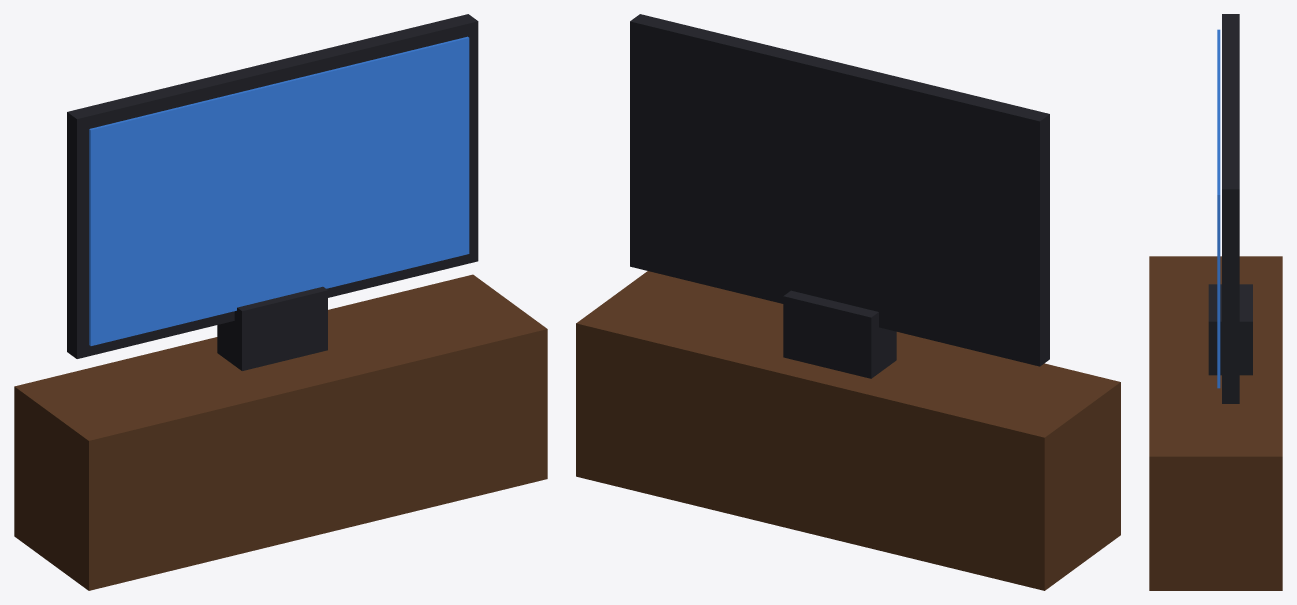
File: tvStand.glb
3 views of the same model, side by side, from view 1: azimuth 30°, elevation 25°; view 2: azimuth 150°, elevation 25°; view 3: azimuth 270°, elevation 25° (orthographic). The views are drawn at different scales.
Parts seen in each view (by area): view 1: tvStand-5e3b22, tvStand-1d3f6e, tvStand-22232a; view 2: tvStand-22232a, tvStand-5e3b22; view 3: tvStand-5e3b22, tvStand-22232a, tvStand-1d3f6e.
Part boxes in pixels (left/top/right/bottom): tvStand-5e3b22: left=14, top=274, right=547, bottom=590; tvStand-1d3f6e: left=89, top=36, right=469, bottom=345; tvStand-22232a: left=67, top=14, right=478, bottom=370; tvStand-22232a: left=630, top=14, right=1049, bottom=378; tvStand-5e3b22: left=576, top=271, right=1120, bottom=590; tvStand-5e3b22: left=1149, top=256, right=1282, bottom=590; tvStand-22232a: left=1208, top=14, right=1252, bottom=403; tvStand-1d3f6e: left=1217, top=29, right=1220, bottom=388.
Size of the model in its own units: 1.6 by 1.45 by 0.45.
